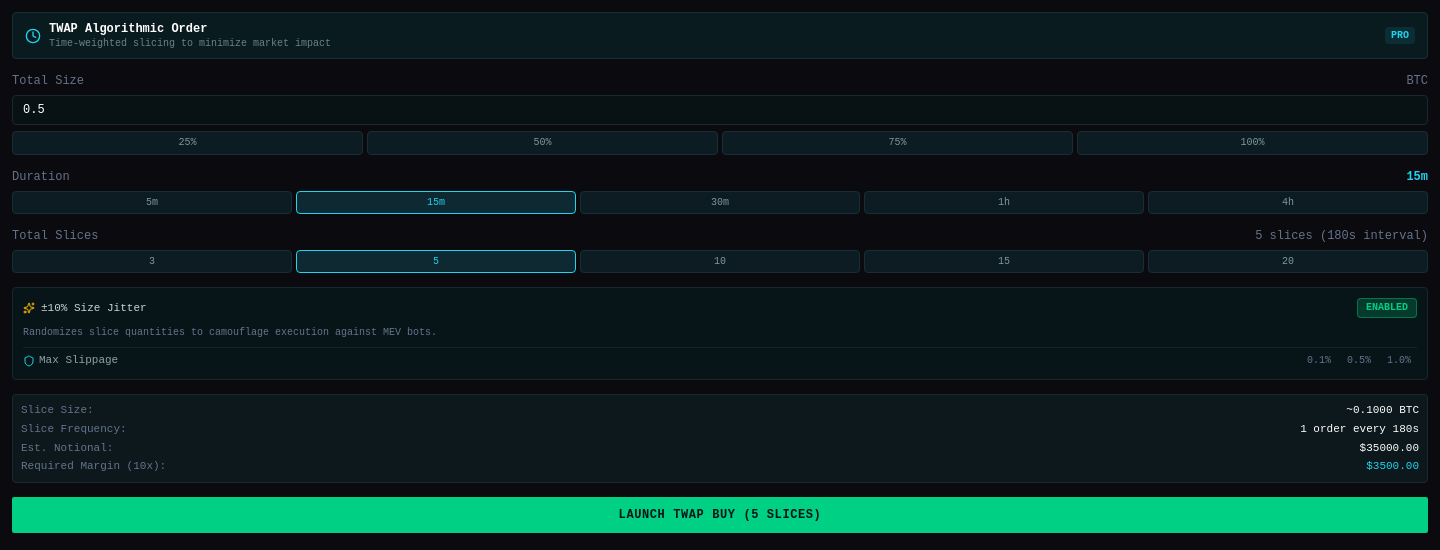
Test case: TWAPOrderForm › allows toggling anti-MEV size jitter
Click the button "ENABLED" at [1387, 308], box [1357, 298, 1417, 318]
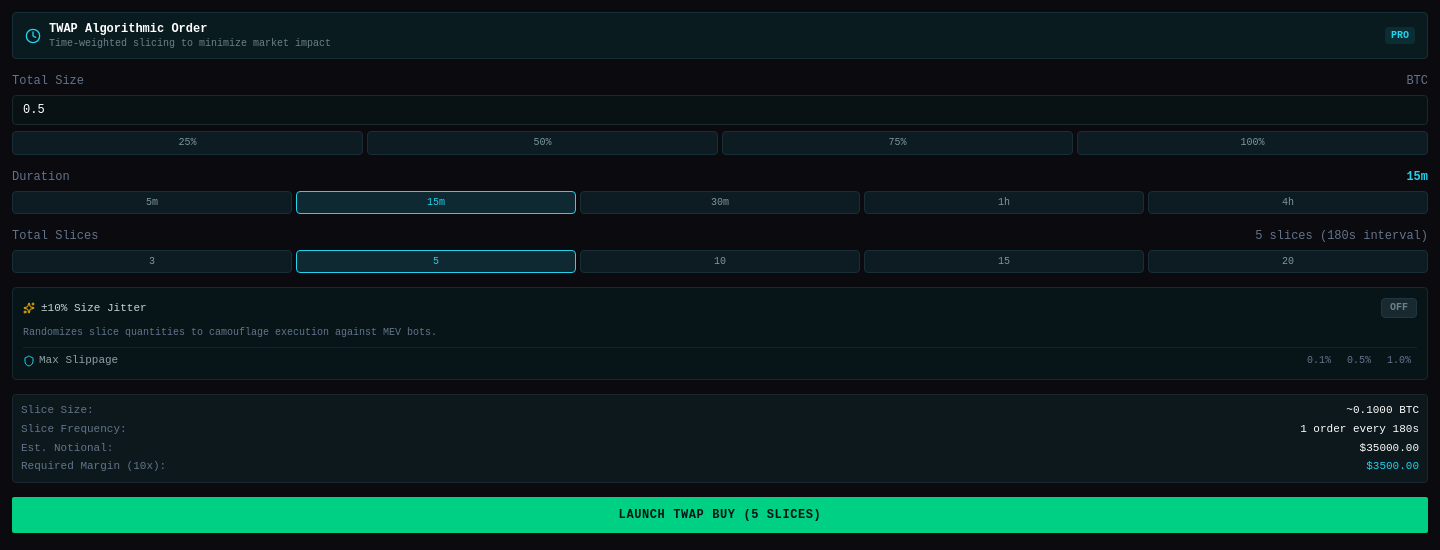
Check: the button "OFF" is shown, box [1381, 298, 1417, 318]
